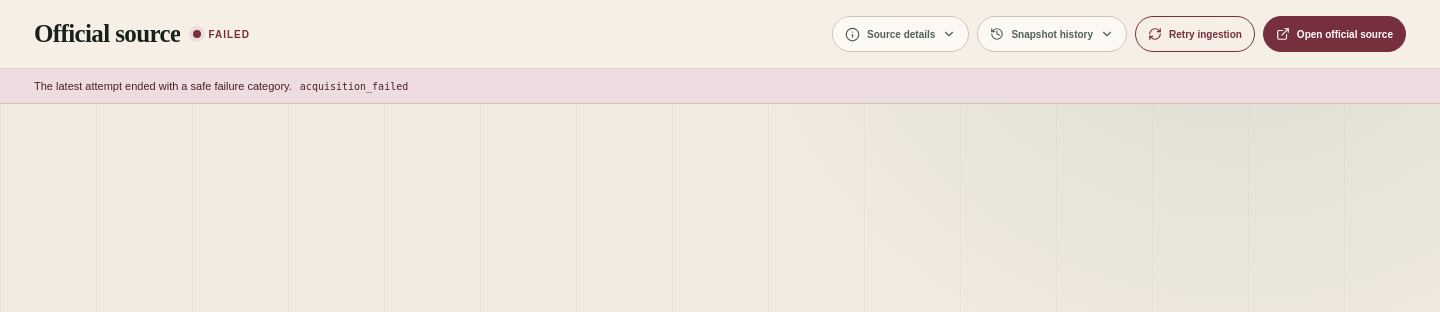
Test case: source lifecycle status › explains a failed lifecycle action without losing the source state
Click the button "Retry ingestion": click(1195, 34) [1135,16,1255,52]
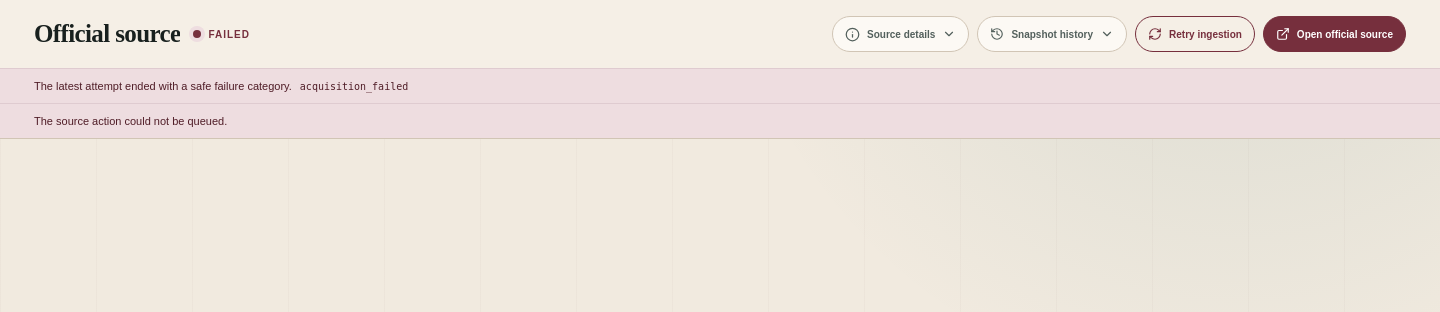
expect the message reads "The source action could not be queued.": met, box [34,115,227,127]
